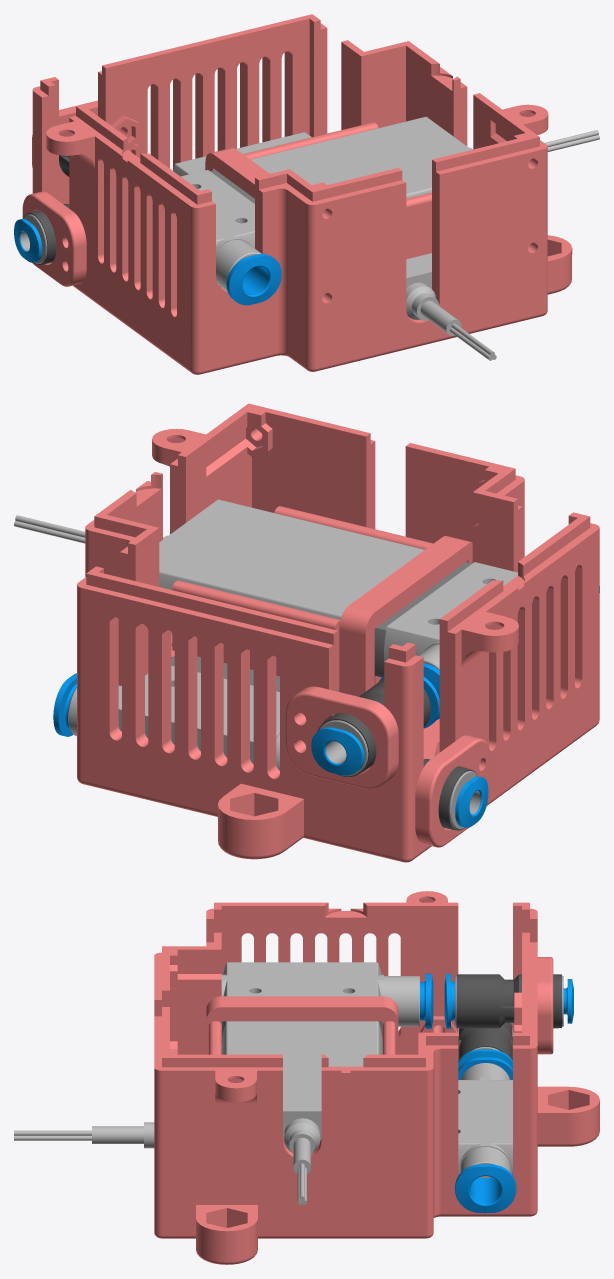
3 views of the same model, one above another, from view 1: azimuth 30°, elevation 25°; view 2: azimuth 150°, elevation 25°; view 3: azimuth 270°, elevation 25° (orthographic). The views are drawn at different scales.
Parts seen in each view (by area): view 1: actuator_mount_2_bottom-1 - Part, _936192 MHJ10-MFstp-1 - Part 3, actuator_mount_2_nozzle_holder-2 - Part, _936192 MHJ10-MF.stp-1 - Part, _717990 MHJ10-S-K-QS-6stp-1 - Part 2, actuator_mount_2_holder-1 - Part, _172973 QSP10-6stp-2 - Part 4, actuator_mount_2_holder_top-1 - Part, _172973 QSP10-6stp-2 - Part 6, _717990 MHJ10-S-K-QS-6.stp-1 - Part, 153327_QSM_6_4-1 - Part 2, 153327_QSM_6_4-1 - Part (+1 smaller); view 2: actuator_mount_2_bottom-1 - Part, _936192 MHJ10-MFstp-1 - Part 3, actuator_mount_2_holder_top-1 - Part, actuator_mount_2_nozzle_holder-1 - Part, _717990 MHJ10-S-K-QS-6stp-1 - Part 2, actuator_mount_2_nozzle_holder-2 - Part, actuator_mount_2_holder-1 - Part, 153327_QSM_6_4-2 - Part 2, _717990 MHJ10-S-K-QS-6.stp-1 - Part, 153327_QSM_6_4-2 - Part, _936192 MHJ10-MFstp-1 - Part 4, 153327_QSM_6_4-1 - Part 2 (+4 smaller); view 3: actuator_mount_2_bottom-1 - Part, _936192 MHJ10-MFstp-1 - Part 3, _717990 MHJ10-S-K-QS-6stp-1 - Part 2, actuator_mount_2_holder_top-1 - Part, _717990 MHJ10-S-K-QS-6.stp-1 - Part, 153327_QSM_6_4-2 - Part, _172973 QSP10-6.stp-1 - Part, _936192 MHJ10-MF.stp-1 - Part, actuator_mount_2_nozzle_holder-1 - Part, _172973 QSP10-6stp-1 - Part 6, 153327_QSM_6_4-1 - Part, 153327_QSM_6_4-2 - Part 2 (+5 smaller).
Boxes of the visible parts, box(x1,y1,x2,y2) form: actuator_mount_2_bottom-1 - Part: box(32, 14, 572, 374); _936192 MHJ10-MFstp-1 - Part 3: box(250, 116, 599, 198); actuator_mount_2_nozzle_holder-2 - Part: box(22, 191, 86, 286); _936192 MHJ10-MF.stp-1 - Part: box(406, 253, 496, 360); _717990 MHJ10-S-K-QS-6stp-1 - Part 2: box(181, 170, 254, 286); actuator_mount_2_holder-1 - Part: box(243, 122, 431, 259); _172973 QSP10-6stp-2 - Part 4: box(226, 254, 281, 305); actuator_mount_2_holder_top-1 - Part: box(205, 147, 269, 198); _172973 QSP10-6stp-2 - Part 6: box(216, 240, 261, 290); _717990 MHJ10-S-K-QS-6.stp-1 - Part: box(173, 132, 311, 176); 153327_QSM_6_4-1 - Part 2: box(14, 218, 42, 262); 153327_QSM_6_4-1 - Part: box(24, 203, 69, 264); actuator_mount_2_bottom-1 - Part: box(77, 403, 599, 862); _936192 MHJ10-MFstp-1 - Part 3: box(14, 499, 424, 619); actuator_mount_2_holder_top-1 - Part: box(339, 536, 472, 696); actuator_mount_2_nozzle_holder-1 - Part: box(285, 686, 398, 788); _717990 MHJ10-S-K-QS-6stp-1 - Part 2: box(384, 562, 517, 662); actuator_mount_2_nozzle_holder-2 - Part: box(415, 735, 490, 847); actuator_mount_2_holder-1 - Part: box(171, 506, 433, 687); 153327_QSM_6_4-2 - Part 2: box(311, 675, 439, 775); _717990 MHJ10-S-K-QS-6.stp-1 - Part: box(118, 665, 279, 763); 153327_QSM_6_4-2 - Part: box(317, 678, 430, 776); _936192 MHJ10-MFstp-1 - Part 4: box(374, 562, 471, 677); 153327_QSM_6_4-1 - Part 2: box(455, 776, 488, 827); actuator_mount_2_bottom-1 - Part: box(154, 891, 599, 1264); _936192 MHJ10-MFstp-1 - Part 3: box(221, 1021, 382, 1204); _717990 MHJ10-S-K-QS-6stp-1 - Part 2: box(221, 962, 383, 1027); actuator_mount_2_holder_top-1 - Part: box(206, 996, 398, 1054); _717990 MHJ10-S-K-QS-6.stp-1 - Part: box(458, 1077, 512, 1174); 153327_QSM_6_4-2 - Part: box(456, 974, 561, 1028); _172973 QSP10-6.stp-1 - Part: box(455, 1164, 516, 1213); _936192 MHJ10-MF.stp-1 - Part: box(14, 1122, 154, 1148); actuator_mount_2_nozzle_holder-1 - Part: box(537, 957, 553, 1054); _172973 QSP10-6stp-1 - Part 6: box(384, 976, 419, 1026); 153327_QSM_6_4-1 - Part: box(458, 1023, 512, 1059); 153327_QSM_6_4-2 - Part 2: box(444, 973, 573, 1028).
Bounding box in the file's own units: 0.1088 × 0.038 × 0.1128.
